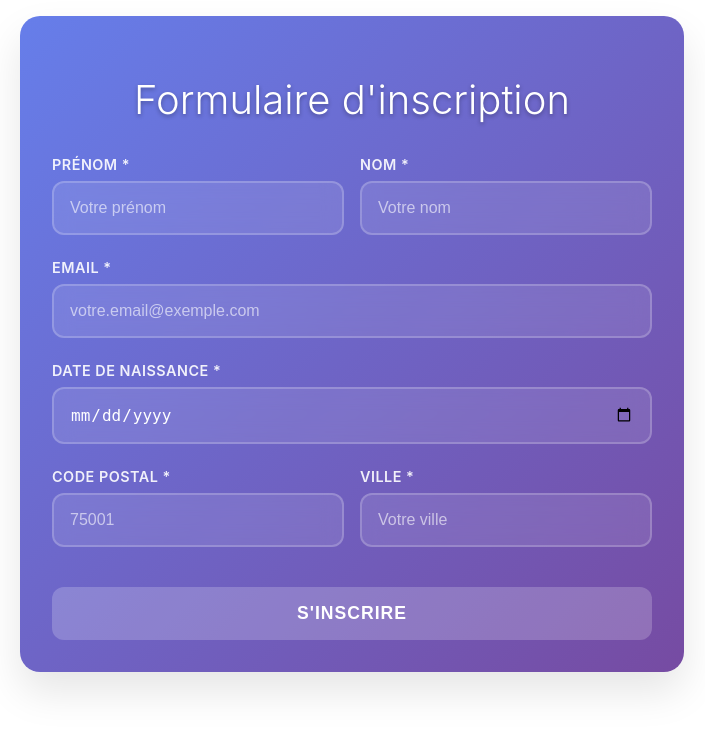
it: UserForm Component › Validation des champs › devrait afficher une erreur pour un prénom invalide
The image size is (705, 752).
Type "J" into the field labelled "Prénom *" at {"x": 198, "y": 208}, box [52,181,344,235]
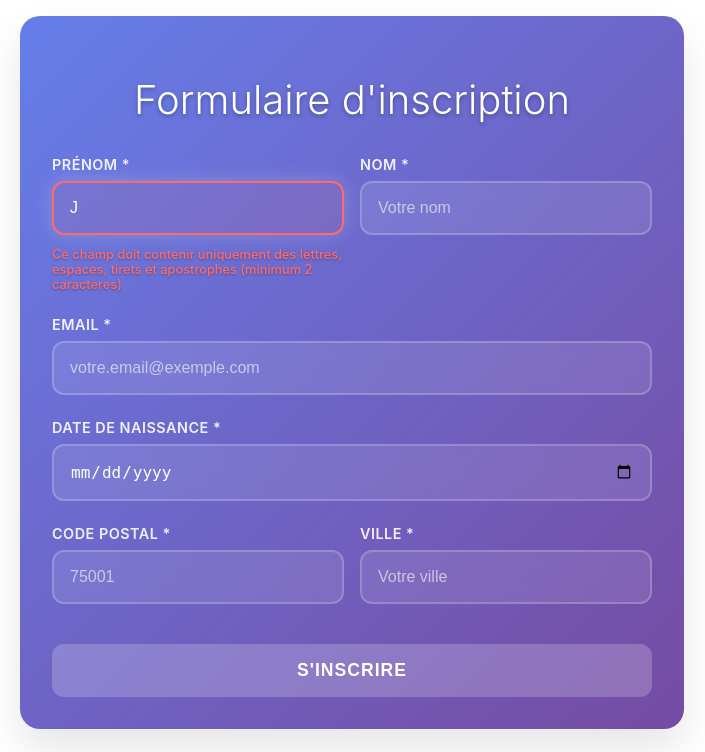
expect the text "Ce champ doit contenir uniquement des lettres" is shown: met, box [52,247,342,292]
